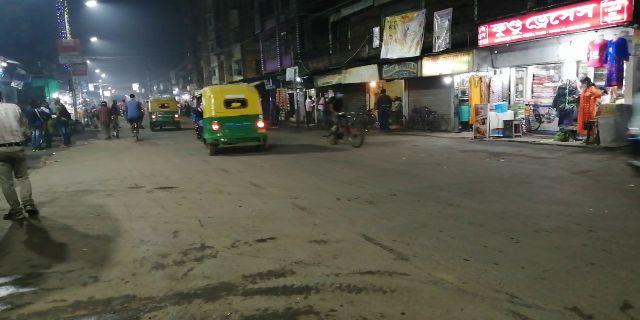Autorickshaw: (189, 83, 277, 155), (147, 91, 184, 129)
Cycle: (325, 89, 369, 149)
